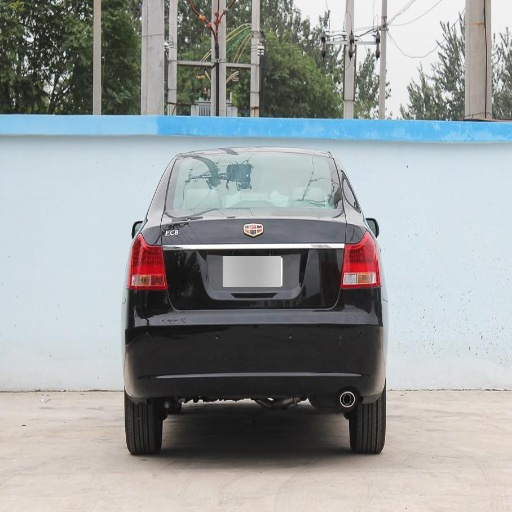back_bumper: (124, 287, 386, 400)
tailgate: (143, 201, 342, 309)
trunk: (157, 223, 361, 365)
